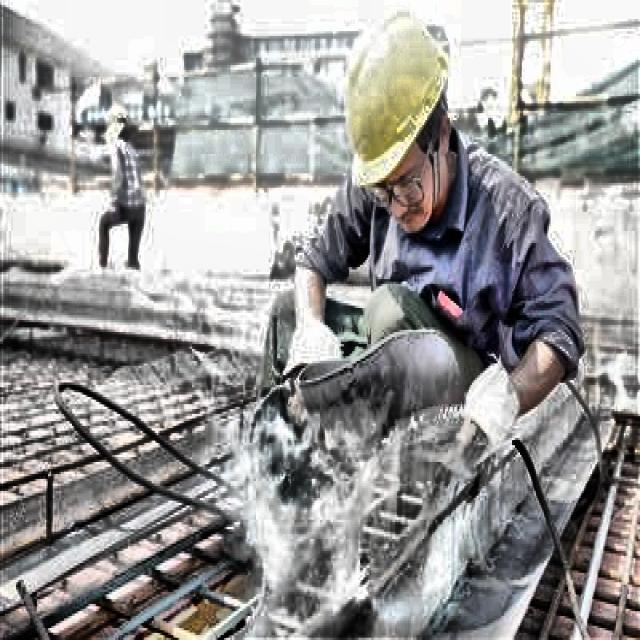helmet: (325, 0, 475, 248)
